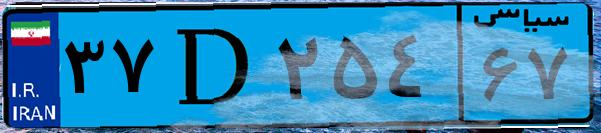2: (270, 28, 330, 110)
3: (57, 26, 110, 100)
4: (385, 28, 445, 110)
5: (330, 28, 385, 110)
6: (475, 38, 525, 113)
7: (525, 38, 570, 115), (110, 28, 158, 98)
D: (158, 12, 270, 120)
